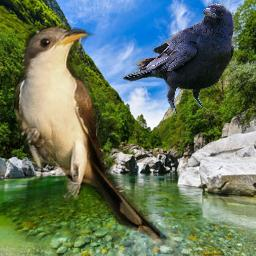Crow: (122, 3, 234, 116)
Cuckoo: (13, 25, 170, 252)
